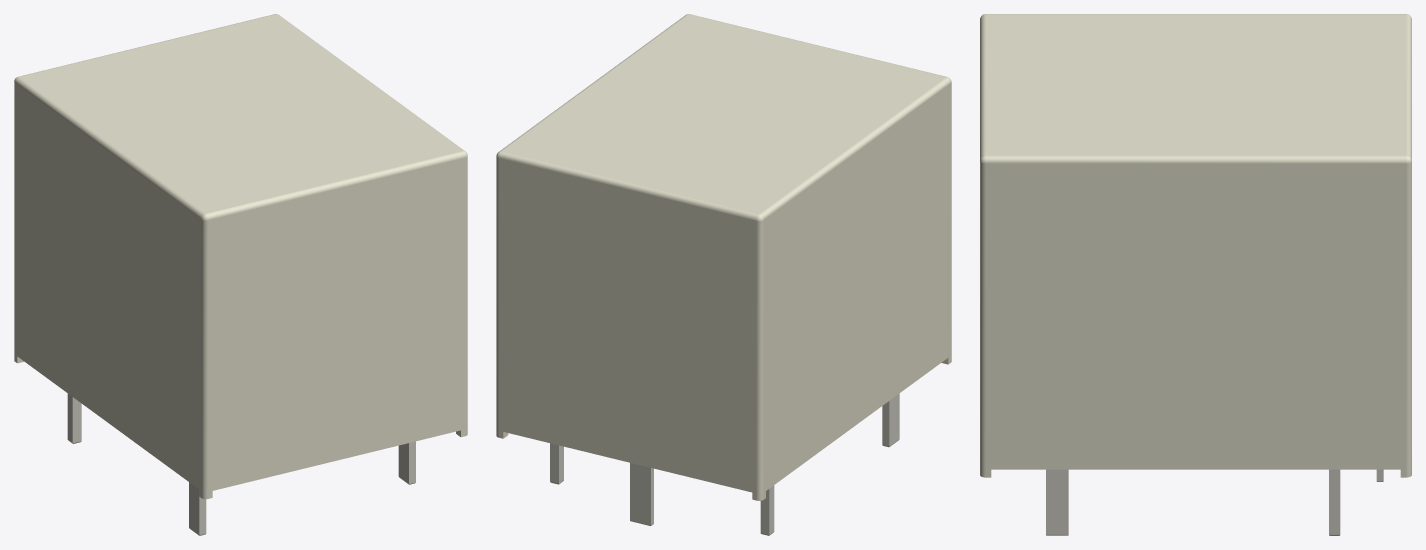
Rendered from kc-relay_spdt_finder_36.11.glb.
3 views of the same model, side by side, from view 1: azimuth 30°, elevation 25°; view 2: azimuth 150°, elevation 25°; view 3: azimuth 270°, elevation 25° (orthographic). The views are drawn at different scales.
Visible parts, largest first — view 1: 0.75_0.75_0.6666666666666666_0, 0.6666666666666666_0.6666666666666666_0.5833333333333334_0.8; view 2: 0.75_0.75_0.6666666666666666_0, 0.6666666666666666_0.6666666666666666_0.5833333333333334_0.8; view 3: 0.75_0.75_0.6666666666666666_0, 0.6666666666666666_0.6666666666666666_0.5833333333333334_0.8.
Boxes of the visible parts, box(x1,y1,x2,y2) form: 0.75_0.75_0.6666666666666666_0: box(14, 14, 467, 499); 0.6666666666666666_0.6666666666666666_0.5833333333333334_0.8: box(67, 393, 415, 535); 0.75_0.75_0.6666666666666666_0: box(496, 14, 951, 500); 0.6666666666666666_0.6666666666666666_0.5833333333333334_0.8: box(550, 393, 899, 535); 0.75_0.75_0.6666666666666666_0: box(980, 14, 1411, 477); 0.6666666666666666_0.6666666666666666_0.5833333333333334_0.8: box(1046, 469, 1383, 535).
Bounding box in the file's own units: 1.52 × 1.9 × 1.9.
